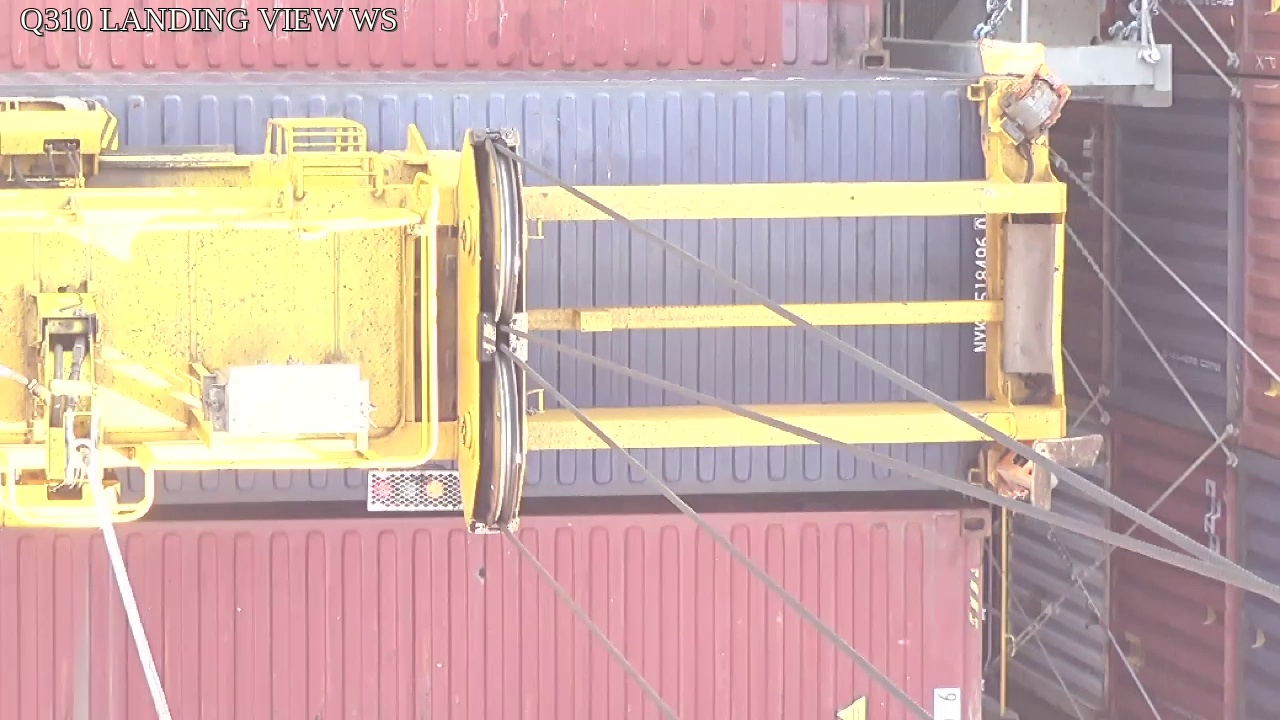right: (453, 128, 530, 535)
